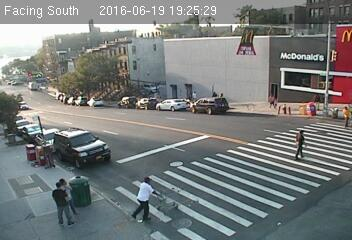neg: (49, 53, 75, 87), (158, 184, 181, 215), (76, 60, 99, 90), (107, 47, 128, 75), (77, 171, 98, 198), (276, 98, 294, 122)
pos: (36, 168, 82, 230), (121, 172, 161, 225), (286, 127, 312, 161), (337, 104, 351, 129), (186, 85, 202, 106), (266, 90, 280, 109)
